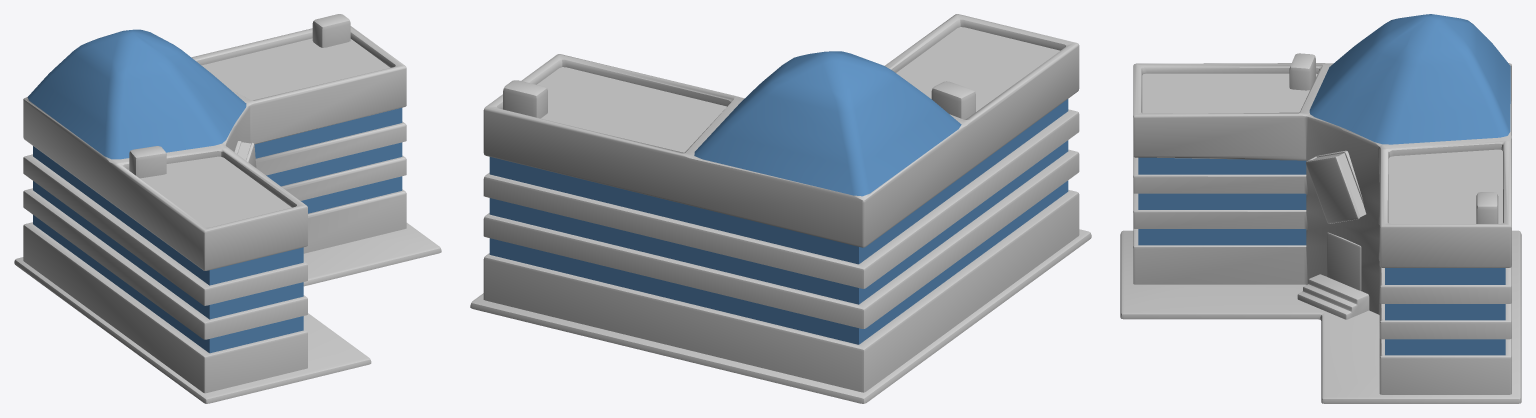
The model's file is biblioteca.fbx.
3 views of the same model, side by side, from view 1: azimuth 30°, elevation 25°; view 2: azimuth 150°, elevation 25°; view 3: azimuth 270°, elevation 25° (orthographic). The views are drawn at different scales.
Parts seen in each view (by area): view 1: rosa, cristal, libro; view 2: rosa, cristal, libro; view 3: rosa, cristal, libro.
Boxes of the visible parts, left/top/right/bottom form: rosa: left=23, top=26, right=406, bottom=393; cristal: left=27, top=29, right=402, bottom=353; libro: left=14, top=14, right=441, bottom=403; rosa: left=483, top=14, right=1079, bottom=392; cristal: left=489, top=51, right=1068, bottom=344; libro: left=470, top=80, right=1091, bottom=403; rosa: left=1133, top=63, right=1511, bottom=394; cristal: left=1138, top=14, right=1510, bottom=355; libro: left=1120, top=53, right=1521, bottom=403.
Bounding box in the file's own units: 200 × 141 × 200.
